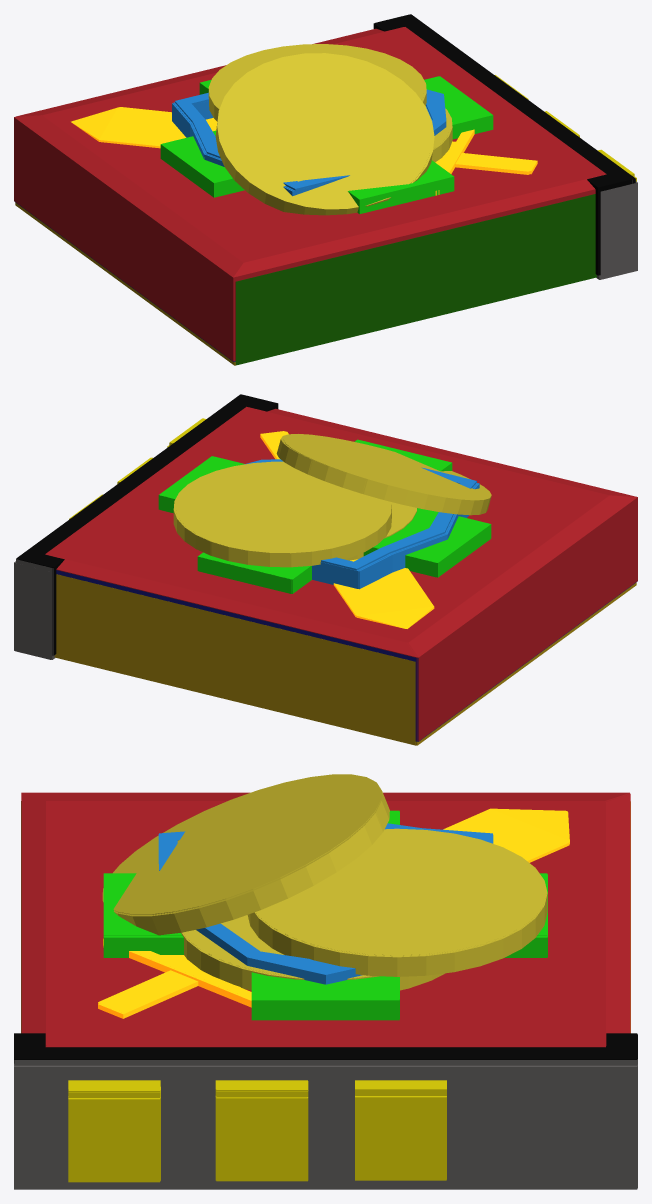
Rendered from Store 1.fbx.
3 renders of one model, top to bottom at view 1: azimuth 30°, elevation 25°; view 2: azimuth 150°, elevation 25°; view 3: azimuth 270°, elevation 25°, orthographic. The views are drawn at different scales.
Parts seen in each view (by area): view 1: AttackSector3ForShop, HealSector3ForShop, MoneySector3ForShop, AttackSector2ForShop, ShieldSector1ForShop, AttackSector1ForShop, ShieldSector3ForShop, MoneySector1ForShop, MoneySector2ForShop, HealSector1ForShop; view 2: AttackSector3ForShop, MoneySector2ForShop, MoneySector3ForShop, AttackSector2ForShop, HealSector3ForShop, ShieldSector2ForShop, HealSector2ForShop, ShieldSector3ForShop, ShieldSector1ForShop, MoneySector1ForShop, AttackSector1ForShop; view 3: AttackSector3ForShop, HealSector1ForShop, MoneySector3ForShop, MoneySector1ForShop, HealSector3ForShop, HealSector2ForShop, ShieldSector1ForShop, AttackSector2ForShop, AttackSector1ForShop, MoneySector2ForShop, ShieldSector3ForShop, ShieldSector2ForShop.
Boxes of the visible parts, left/top/right/bottom form: AttackSector3ForShop: left=14, top=15, right=632, bottom=361; HealSector3ForShop: left=160, top=76, right=635, bottom=365; MoneySector3ForShop: left=15, top=44, right=600, bottom=365; AttackSector2ForShop: left=16, top=14, right=633, bottom=178; ShieldSector1ForShop: left=175, top=89, right=635, bottom=190; AttackSector1ForShop: left=120, top=14, right=635, bottom=194; ShieldSector3ForShop: left=14, top=99, right=632, bottom=361; MoneySector1ForShop: left=304, top=44, right=452, bottom=205; MoneySector2ForShop: left=264, top=44, right=450, bottom=183; HealSector1ForShop: left=431, top=76, right=637, bottom=271; AttackSector3ForShop: left=19, top=395, right=637, bottom=741; MoneySector2ForShop: left=16, top=434, right=452, bottom=745; MoneySector3ForShop: left=51, top=434, right=636, bottom=745; AttackSector2ForShop: left=17, top=395, right=417, bottom=740; HealSector3ForShop: left=161, top=440, right=491, bottom=593; ShieldSector2ForShop: left=17, top=443, right=477, bottom=741; HealSector2ForShop: left=15, top=440, right=436, bottom=651; ShieldSector3ForShop: left=52, top=483, right=637, bottom=741; ShieldSector1ForShop: left=16, top=443, right=476, bottom=570; MoneySector1ForShop: left=173, top=434, right=329, bottom=555; AttackSector1ForShop: left=16, top=394, right=356, bottom=617; AttackSector3ForShop: left=14, top=792, right=637, bottom=1095; HealSector1ForShop: left=14, top=936, right=637, bottom=1189; MoneySector3ForShop: left=102, top=774, right=546, bottom=1179; MoneySector1ForShop: left=102, top=812, right=637, bottom=1188; HealSector3ForShop: left=14, top=801, right=547, bottom=1180; HealSector2ForShop: left=15, top=812, right=637, bottom=1181; ShieldSector1ForShop: left=14, top=823, right=637, bottom=1097; AttackSector2ForShop: left=14, top=793, right=637, bottom=1090; AttackSector1ForShop: left=14, top=842, right=637, bottom=1091; MoneySector2ForShop: left=114, top=790, right=637, bottom=1187; ShieldSector3ForShop: left=68, top=834, right=446, bottom=1095; ShieldSector2ForShop: left=160, top=835, right=637, bottom=1096.
Bounding box in the file's own units: 2.48 × 0.9683 × 2.29.
